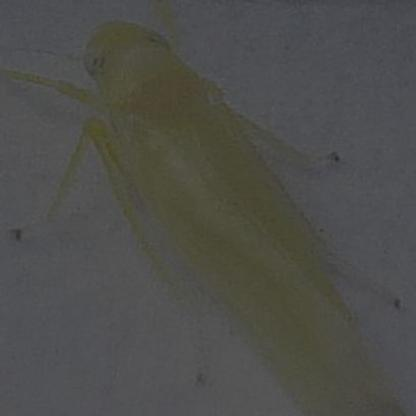green-leafhopper: (82, 9, 387, 416)
